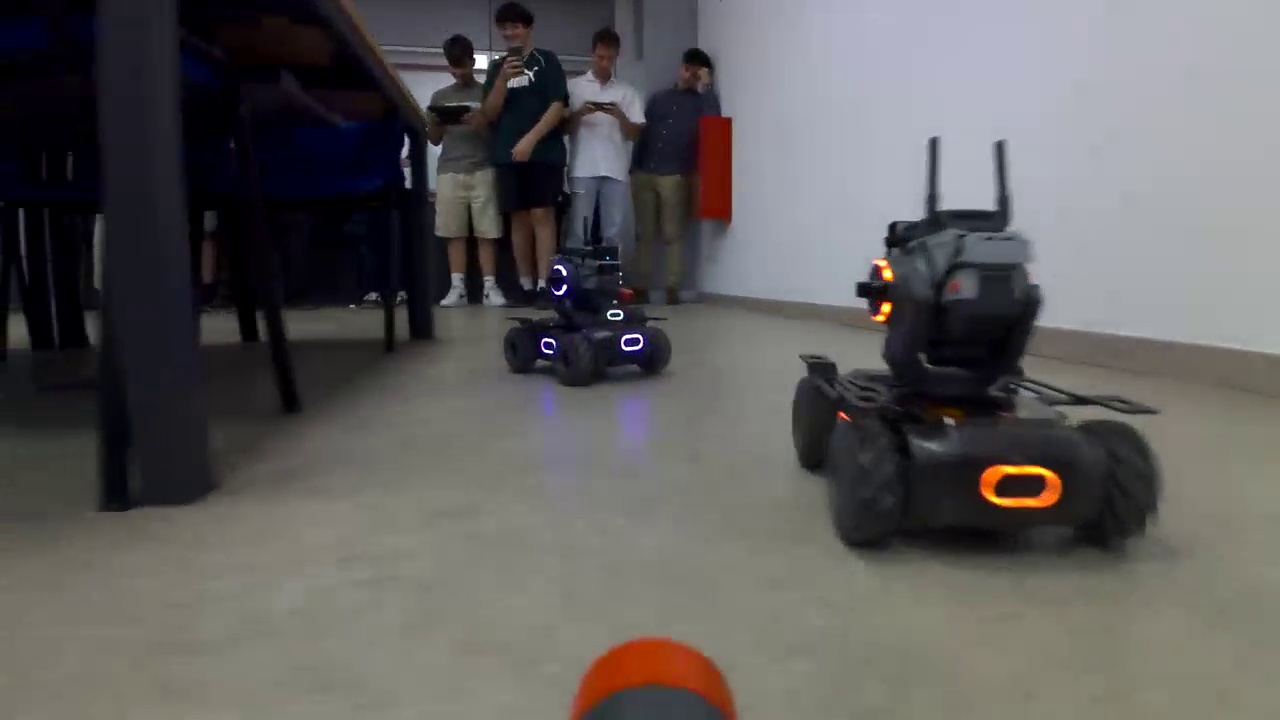robot: (778, 227, 1173, 562), (528, 250, 678, 397)
